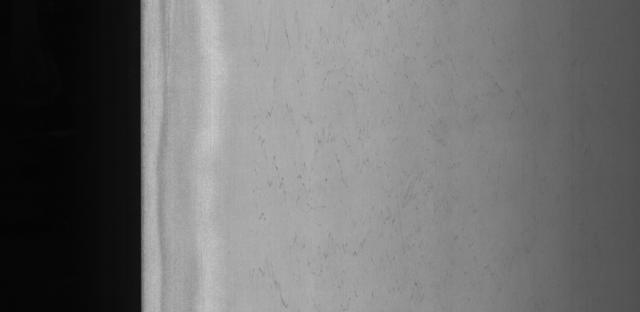silk_spot: (253, 81, 450, 312)
